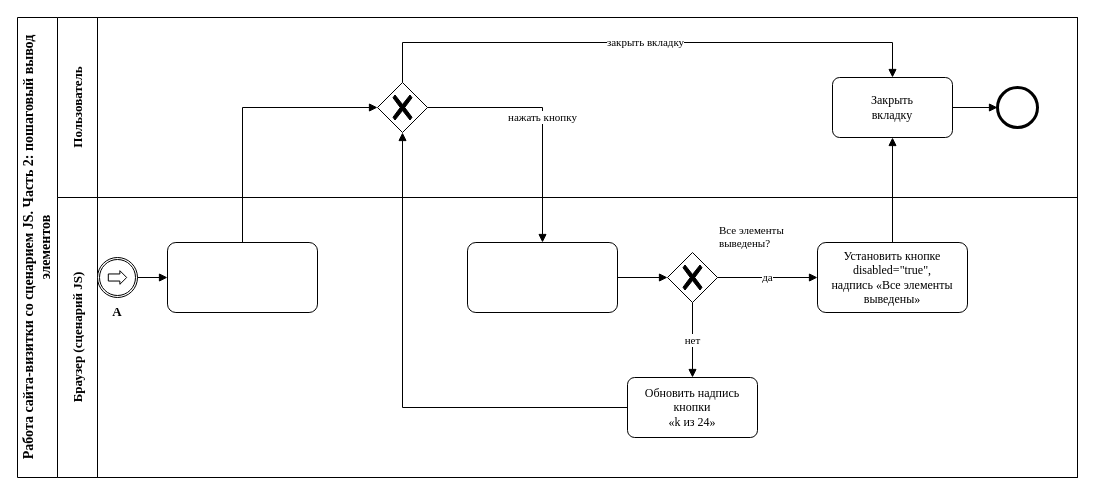
Image size: 1095x495. Some labels were removed from this diagram. Here are the shapes that lost their labels. From the top down, the centre of each, then its label:
(x=402, y=107): Действие?
(x=1017, y=107): Работа завершена
(x=242, y=277): Отобразить страницу: элементы скрыты, кнопка активна (0 из 24)
(x=542, y=277): Снять атрибут hidden с очередного элемента, shownCount + 1
